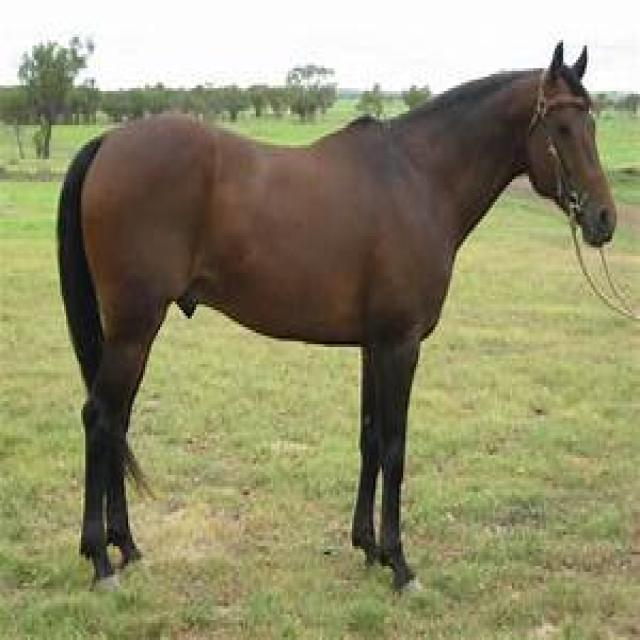animal: (54, 37, 616, 594)
